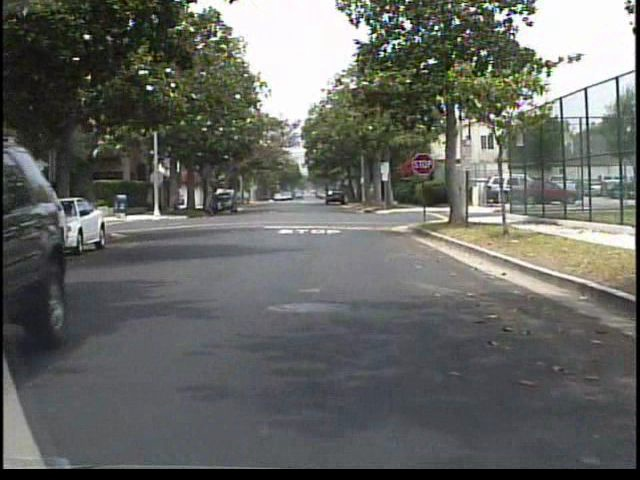person: (204, 177, 227, 219)
